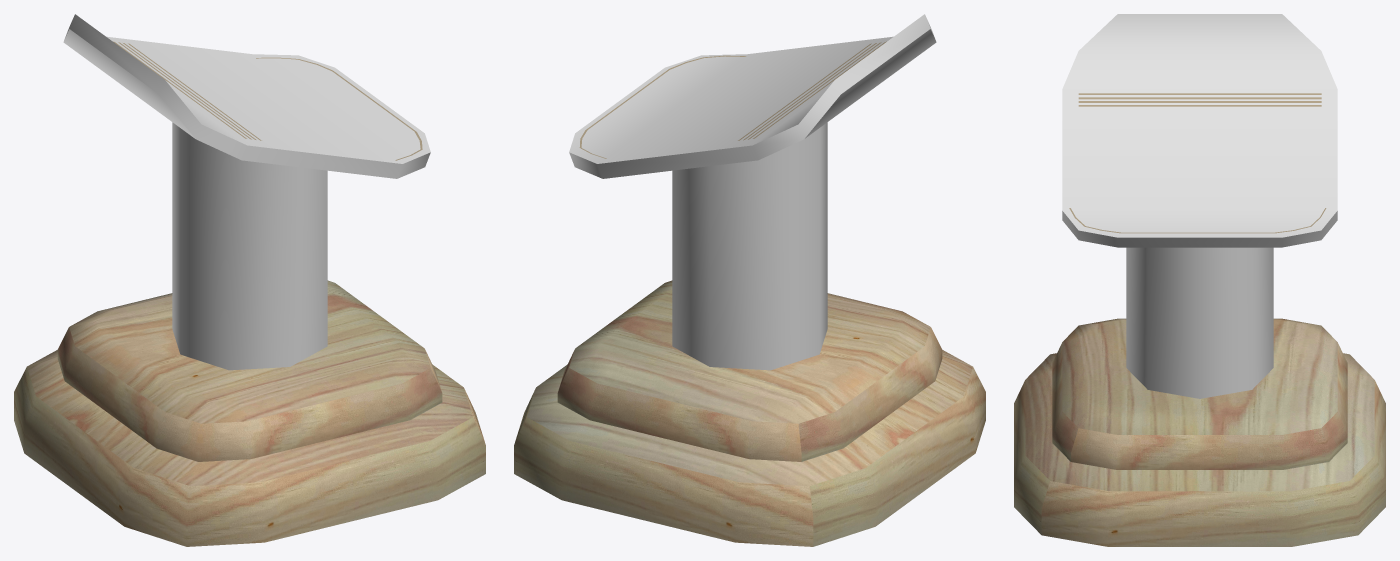
File: Controller.fbx
The picture shows the model from 3 angles, left to right: view 1: azimuth 30°, elevation 25°; view 2: azimuth 150°, elevation 25°; view 3: azimuth 270°, elevation 25°; orthographic projection. The views are drawn at different scales.
Parts seen in each view (by area): view 1: Cube.019; view 2: Cube.019; view 3: Cube.019.
Boxes of the visible parts, <box> form: Cube.019: <box>14,14,485,546</box>; Cube.019: <box>514,14,985,546</box>; Cube.019: <box>1014,14,1385,546</box>.
Bounding box in the file's own units: 100 × 118 × 100.
Materials: 2 (1 with a texture image).
